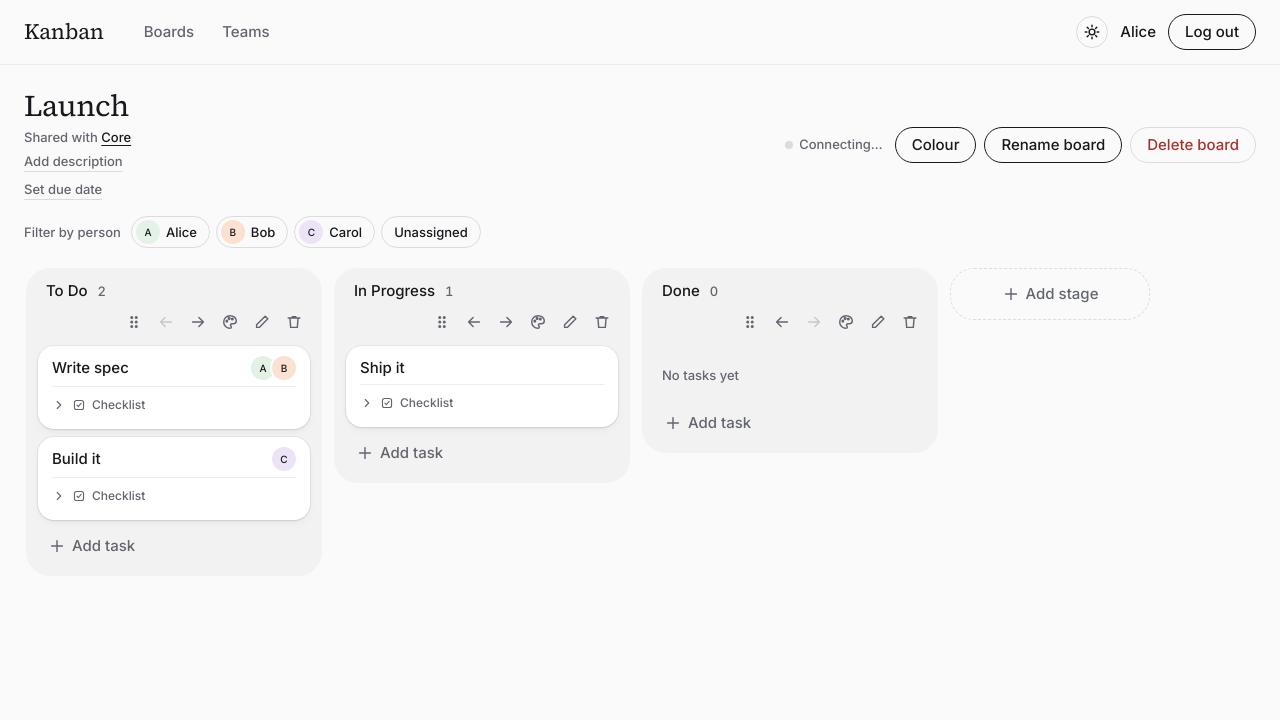
Test: assigning in the task dialog › assigns and unassigns people
The image size is (1280, 720).
Check: the heading "Launch" is shown, box x1=24 y1=85 x2=129 y2=126
Click the button with aria-label "open task ship it".
click(382, 367)  # box x1=360 y1=358 x2=405 y2=377
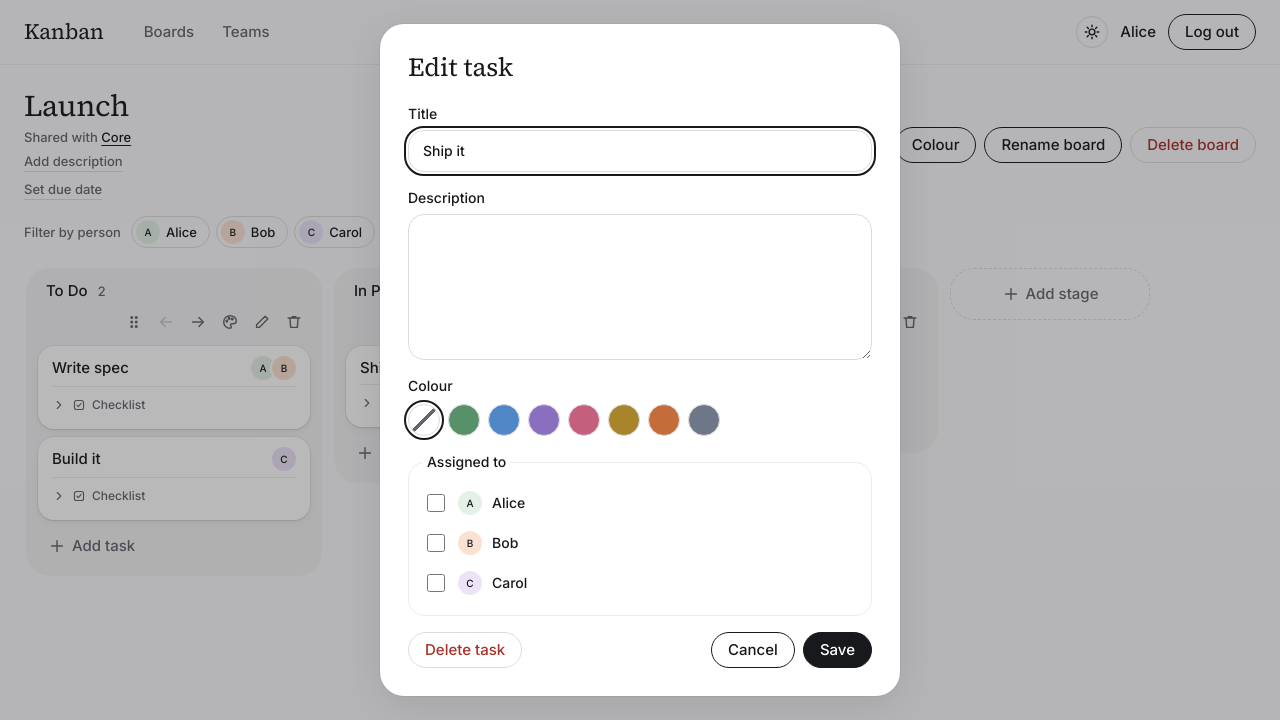
Click the checkbox labelled "Carol".
click(436, 583)  # box x1=427 y1=574 x2=445 y2=592
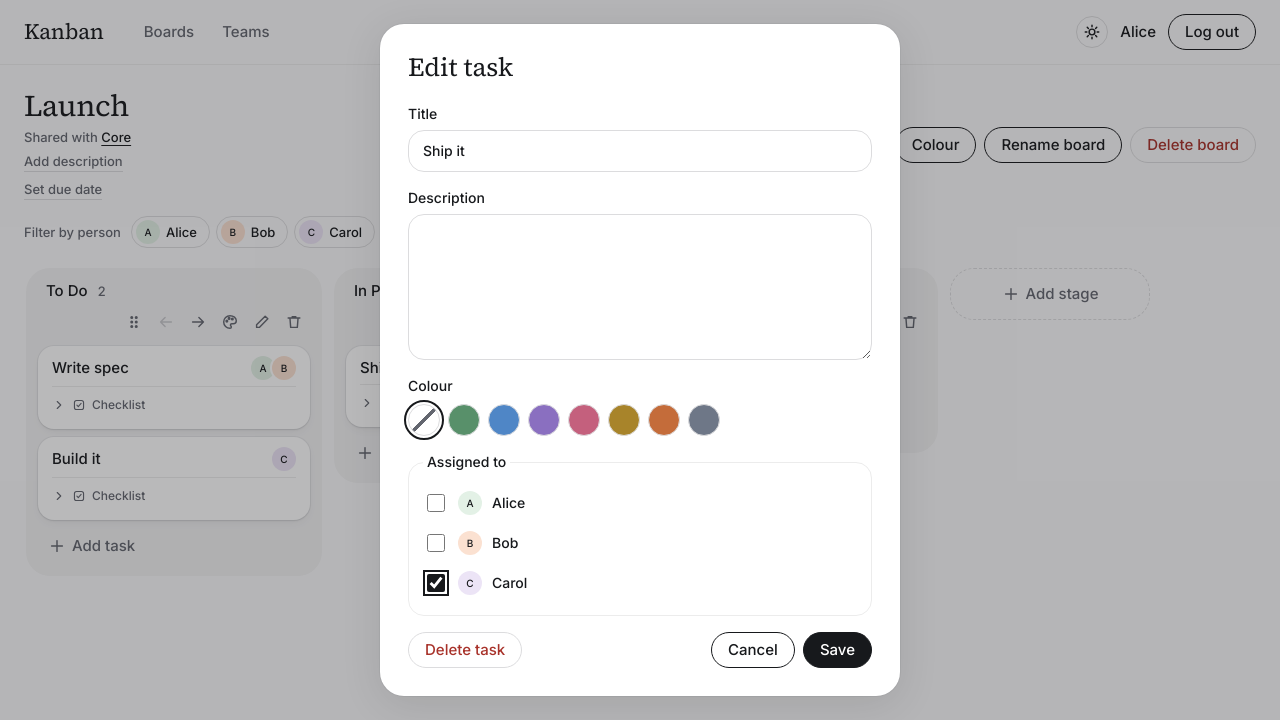
Click the checkbox labelled "Bob".
click(436, 543)  # box x1=427 y1=534 x2=445 y2=552
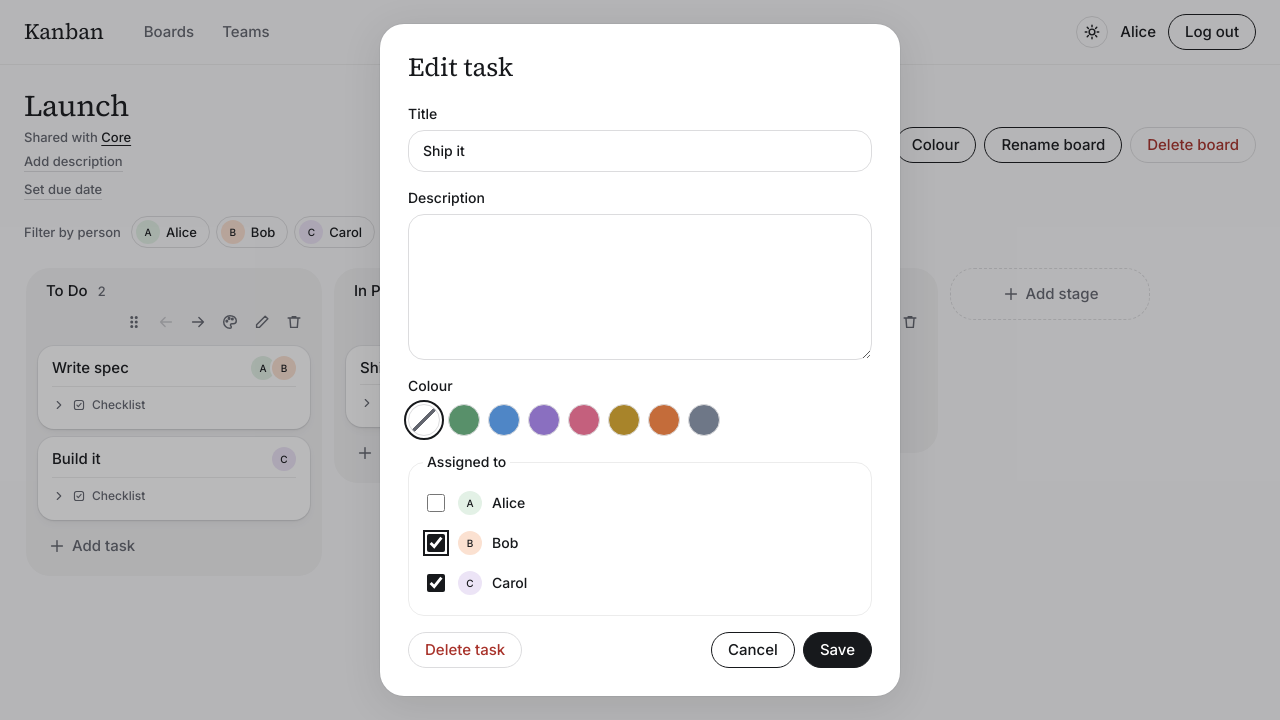
Click the button "Save".
click(837, 650)  # box x1=803 y1=632 x2=872 y2=668
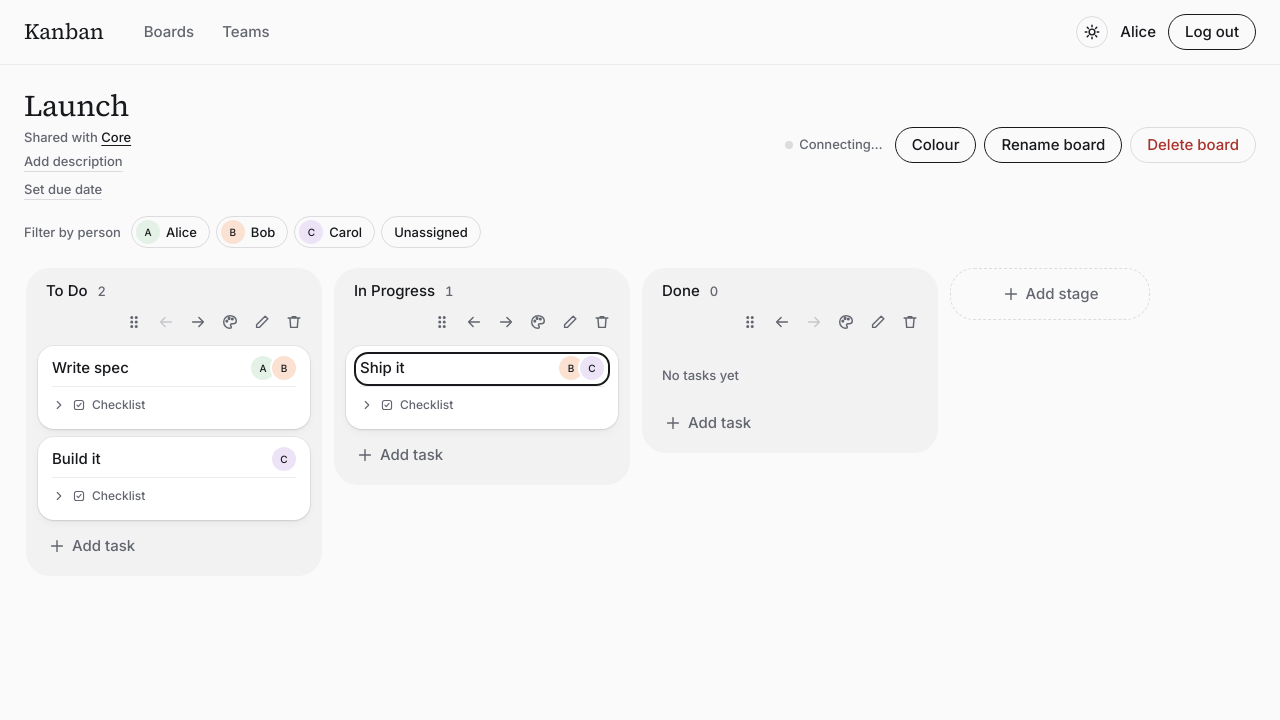
Check: the dialog is gone
